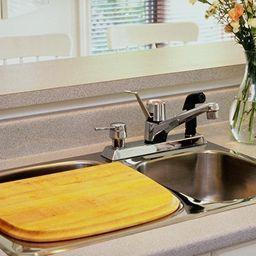Lavaplatos: (6, 93, 255, 250)
